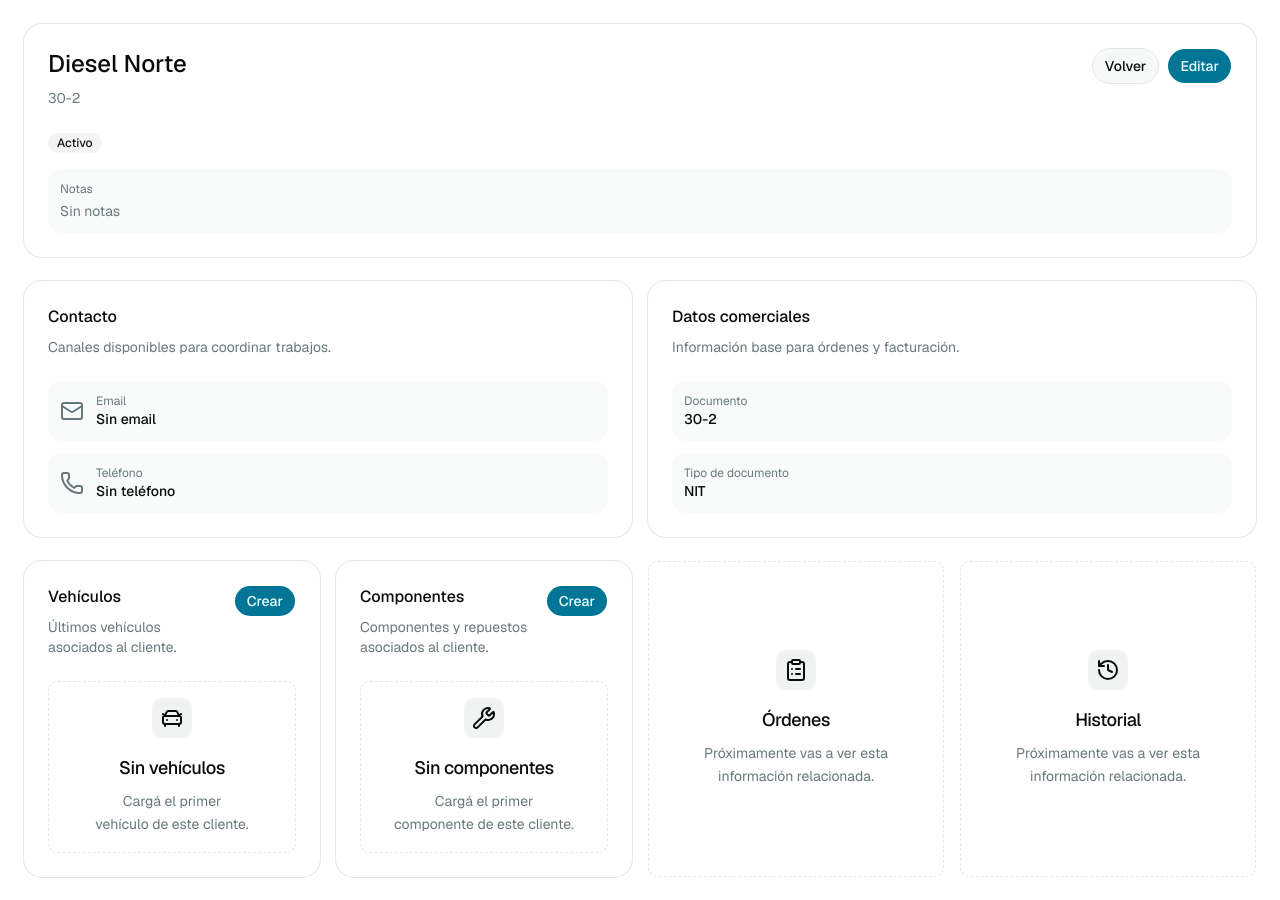
CustomerDetailPage › shows related preview empty states and scoped create actions
This screenshot has width=1280, height=900.
Check: the text "Sin vehículos" is shown, box left=119, top=754, right=225, bottom=782
Check: the text "Sin componentes" is shown, box left=414, top=754, right=554, bottom=782
Click the 1st button "Crear" at (265, 601), box left=234, top=585, right=296, bottom=617
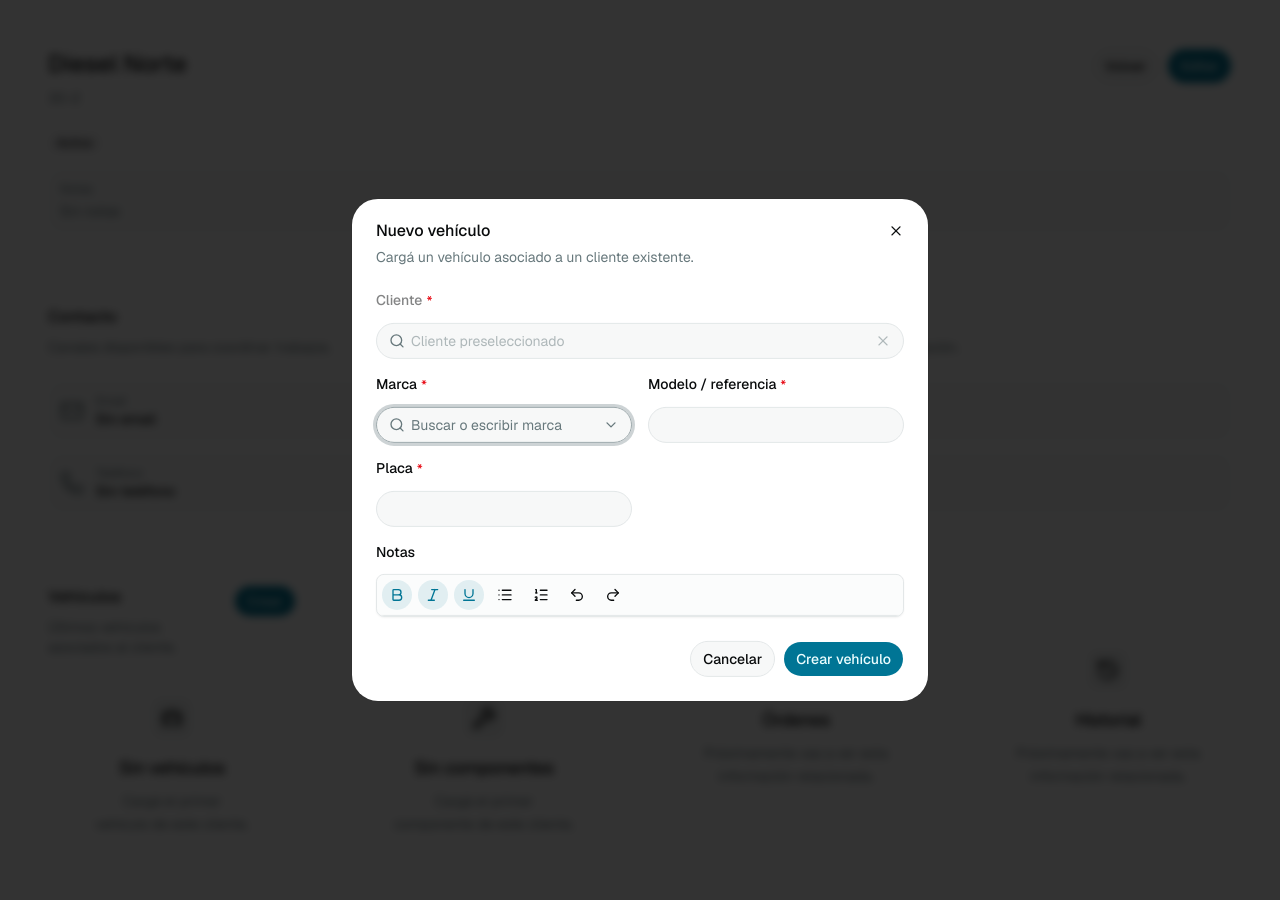
Check: the dialog shows "Nuevo vehículo", box left=376, top=220, right=490, bottom=241
